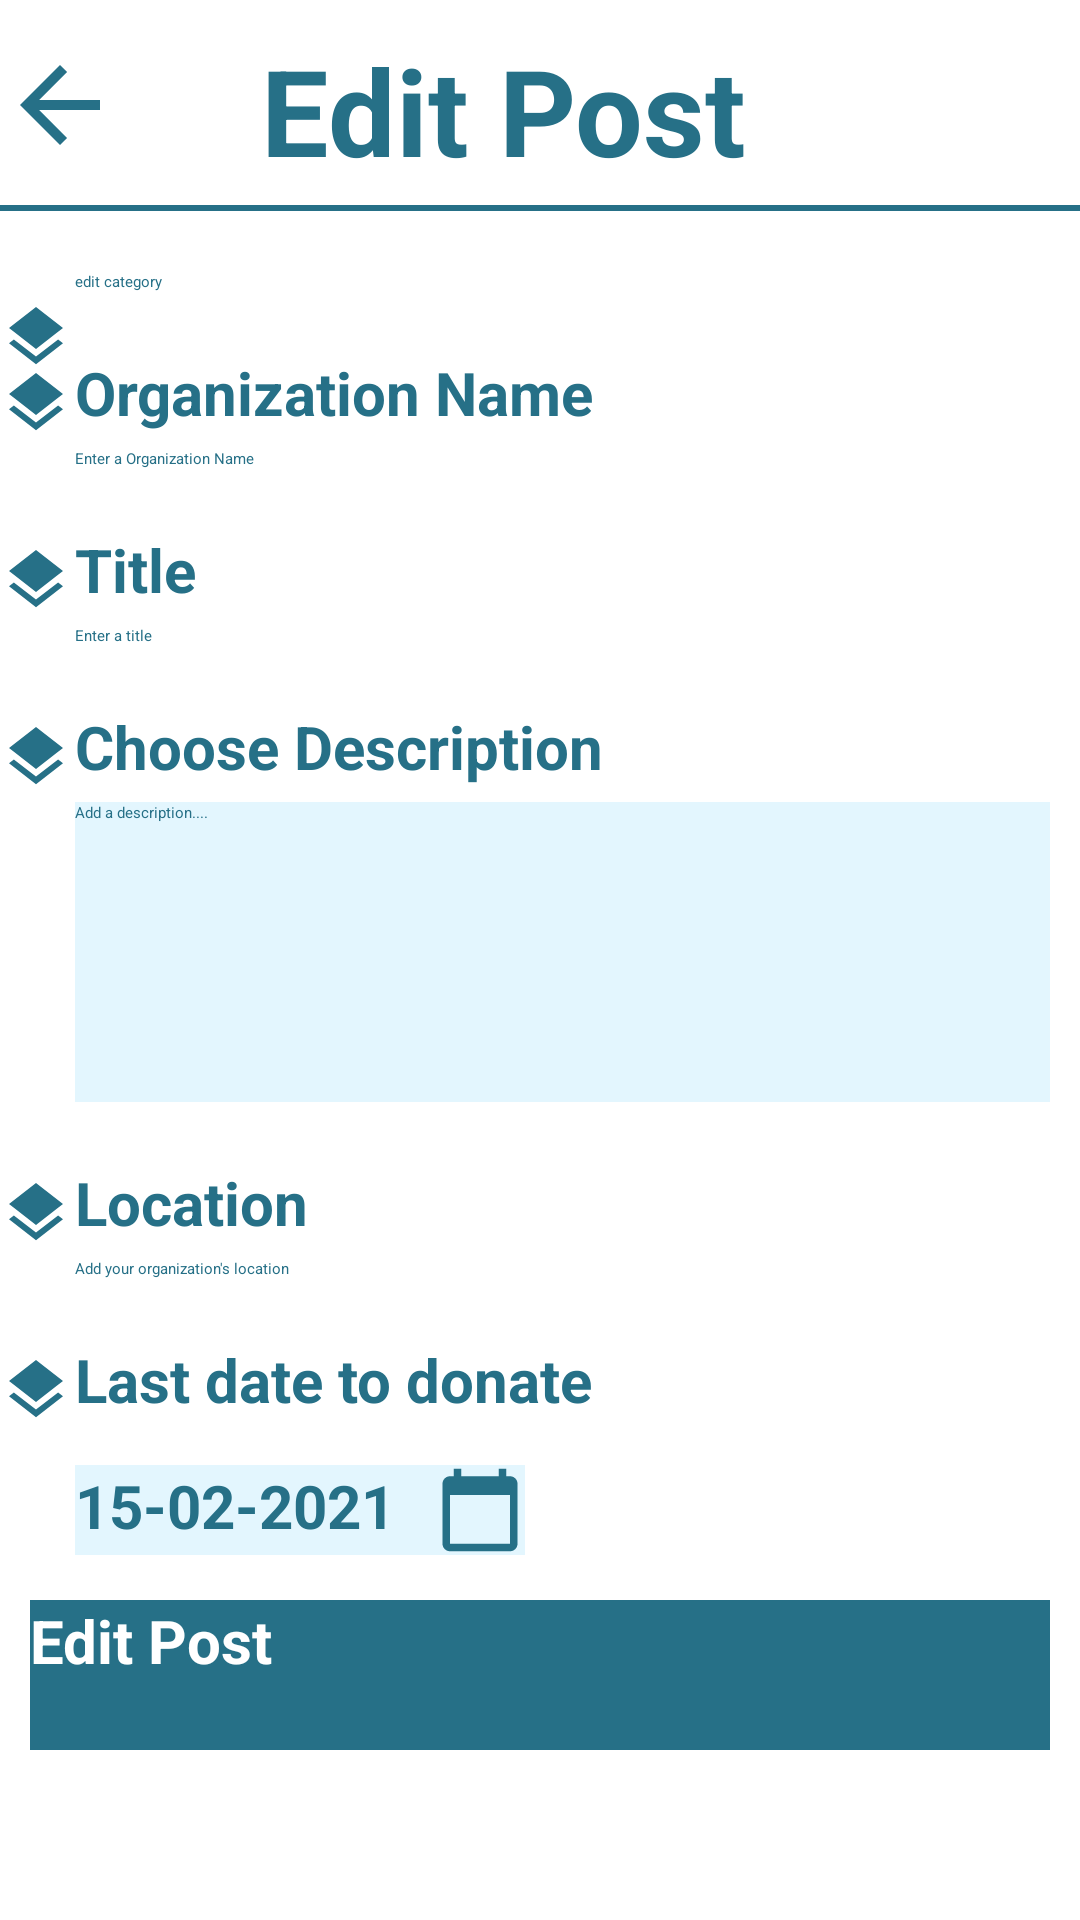

Screen size 1080px×1920px. Icon name, then its center in pixels as point (x, y):
arrow back: point (60, 105)
layers: point (36, 335), point (36, 401), point (36, 578), point (36, 755), point (36, 1211), point (36, 1388)
